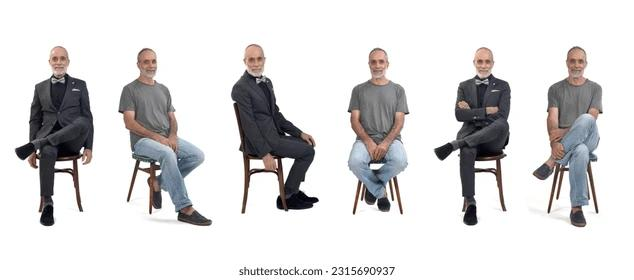jacket: (230, 70, 303, 156), (28, 73, 94, 154), (454, 73, 511, 146)
short sleeve shirt: (118, 78, 177, 153), (348, 78, 410, 143), (545, 77, 604, 137)
trousers: (133, 137, 205, 213), (548, 114, 601, 207), (39, 116, 93, 197), (458, 117, 510, 198), (248, 134, 316, 192), (347, 140, 407, 198)
